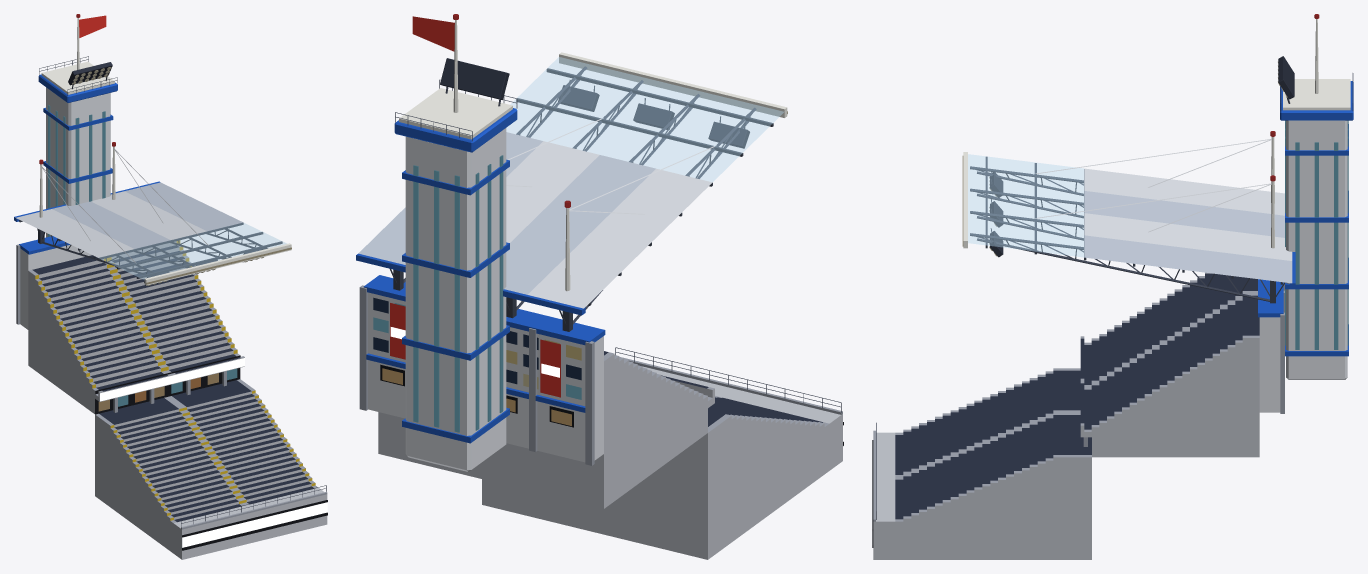
Rendered from stand-corner.glb.
The picture shows the model from 3 angles, left to right: view 1: azimuth 30°, elevation 25°; view 2: azimuth 150°, elevation 25°; view 3: azimuth 270°, elevation 25°; orthographic projection. The views are drawn at different scales.
Visible parts, largest first — view 1: stand-corner; view 2: stand-corner; view 3: stand-corner.
Part boxes in pixels (x1,y1,x2,y2): stand-corner: (14,14,327,559); stand-corner: (356,14,843,559); stand-corner: (872,14,1353,559).
Bounding box in the file's own units: 24.7 × 62.9 × 54.84.
Materials: 5 (3 with a texture image).
